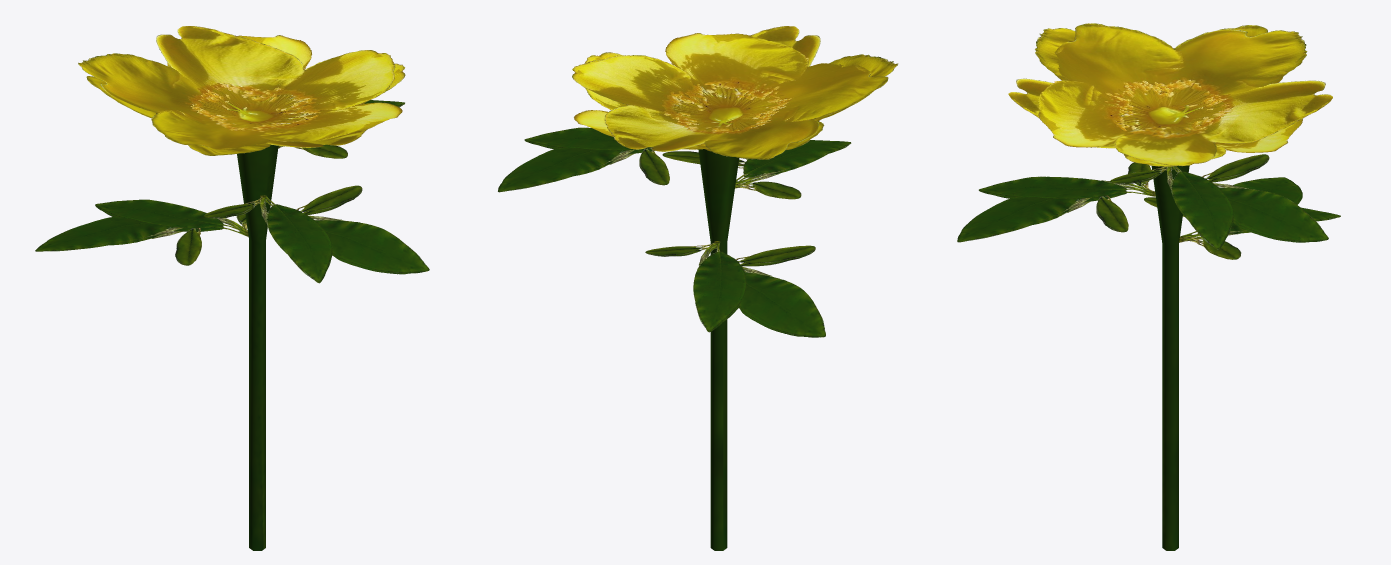
The model's file is hypericum.obj.
The picture shows the model from 3 angles, left to right: view 1: azimuth 30°, elevation 25°; view 2: azimuth 150°, elevation 25°; view 3: azimuth 270°, elevation 25°; orthographic projection.
Parts seen in each view (by area): view 1: skin; view 2: skin; view 3: skin.
Part boxes in pixels (<box>): skin: <box>35,26,429,550</box>; skin: <box>498,26,898,550</box>; skin: <box>957,23,1340,550</box>.
Size of the model in its own units: 2.58 by 3.04 by 2.65.
Materials: 1 (1 with a texture image).
